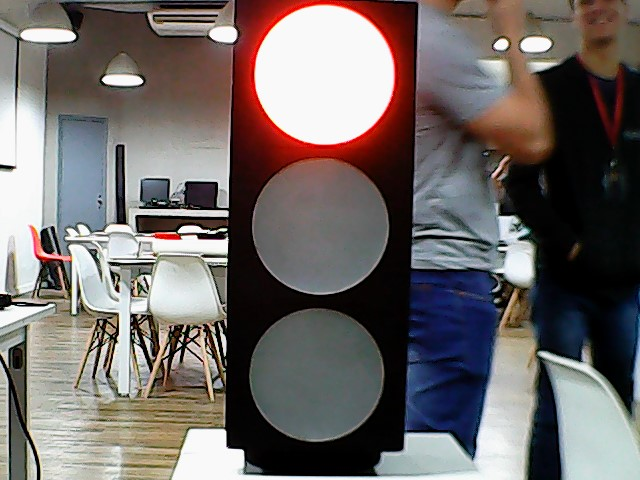vermelho: (224, 1, 420, 475)
